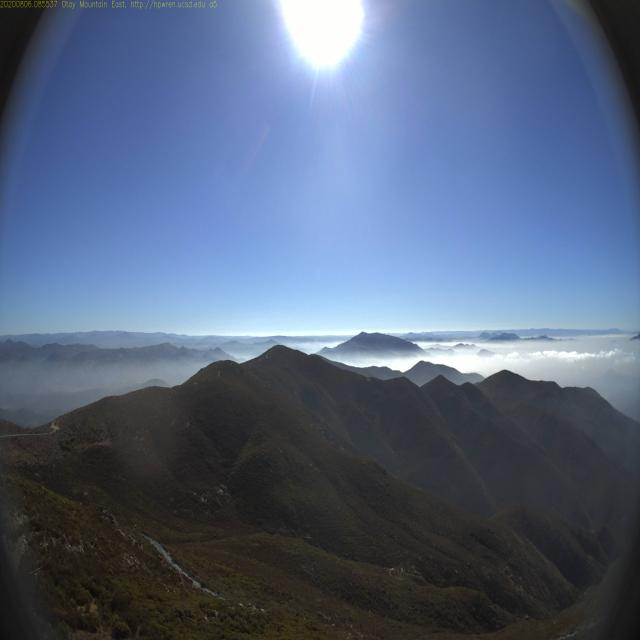smoke: (358, 351, 361, 357)
